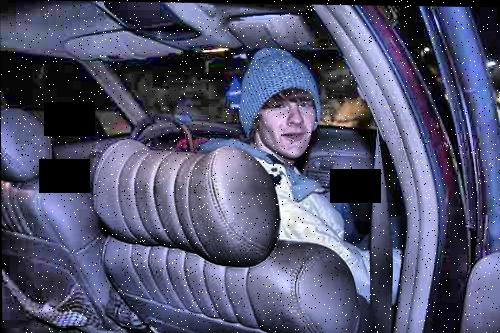seatbelt: (357, 131, 409, 312)
